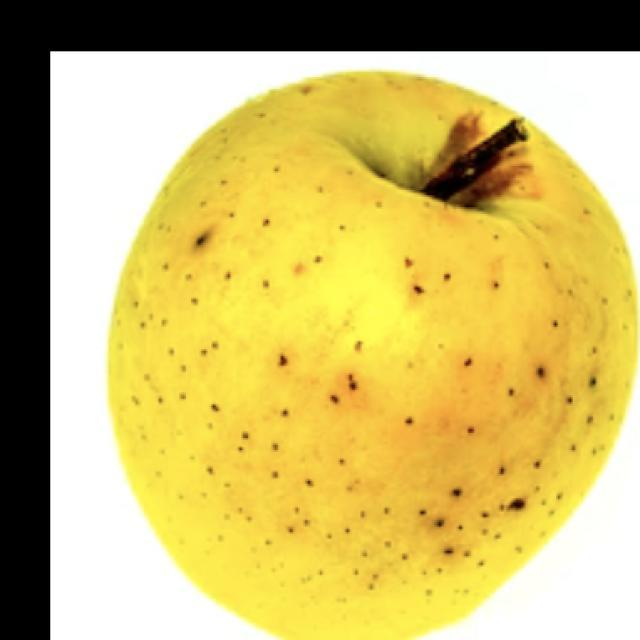Rotten: (112, 66, 640, 640)
